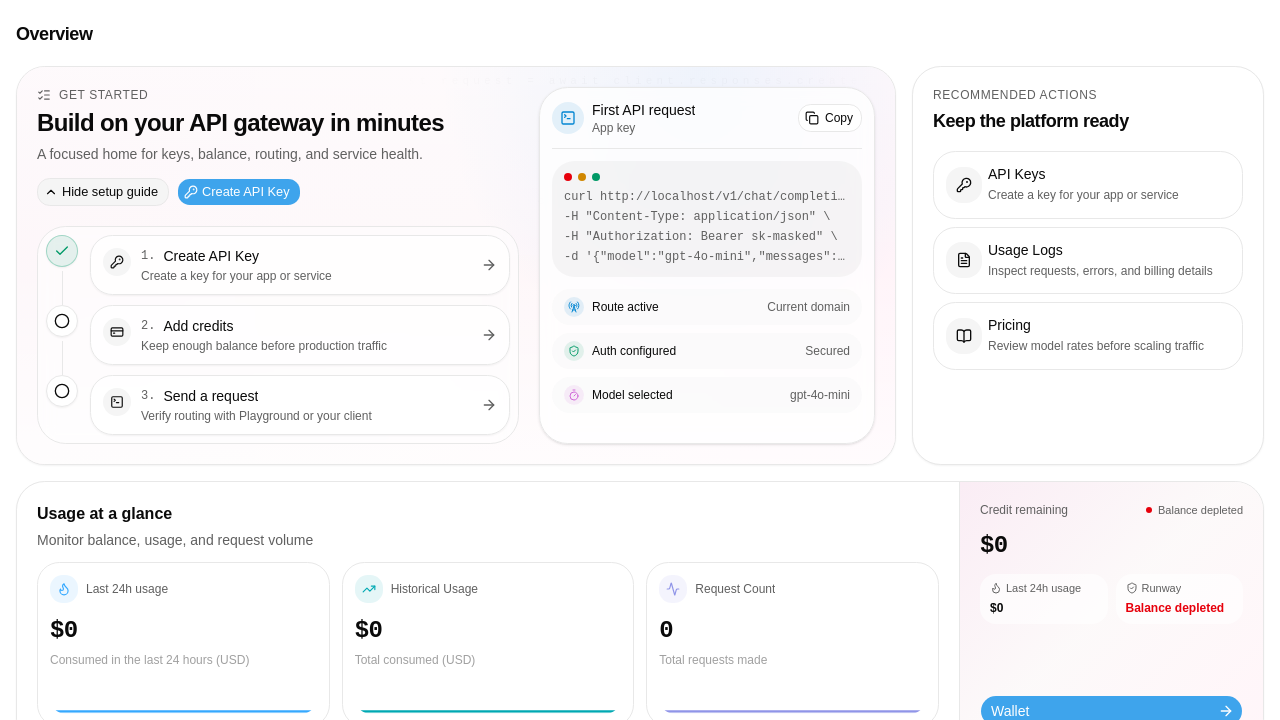
Test: overview setup guide › keeps the existing progress banner when an incomplete guide is manually collapsed
Step 1. Click the button "Hide setup guide" → (103, 192), box [37,178,169,206]
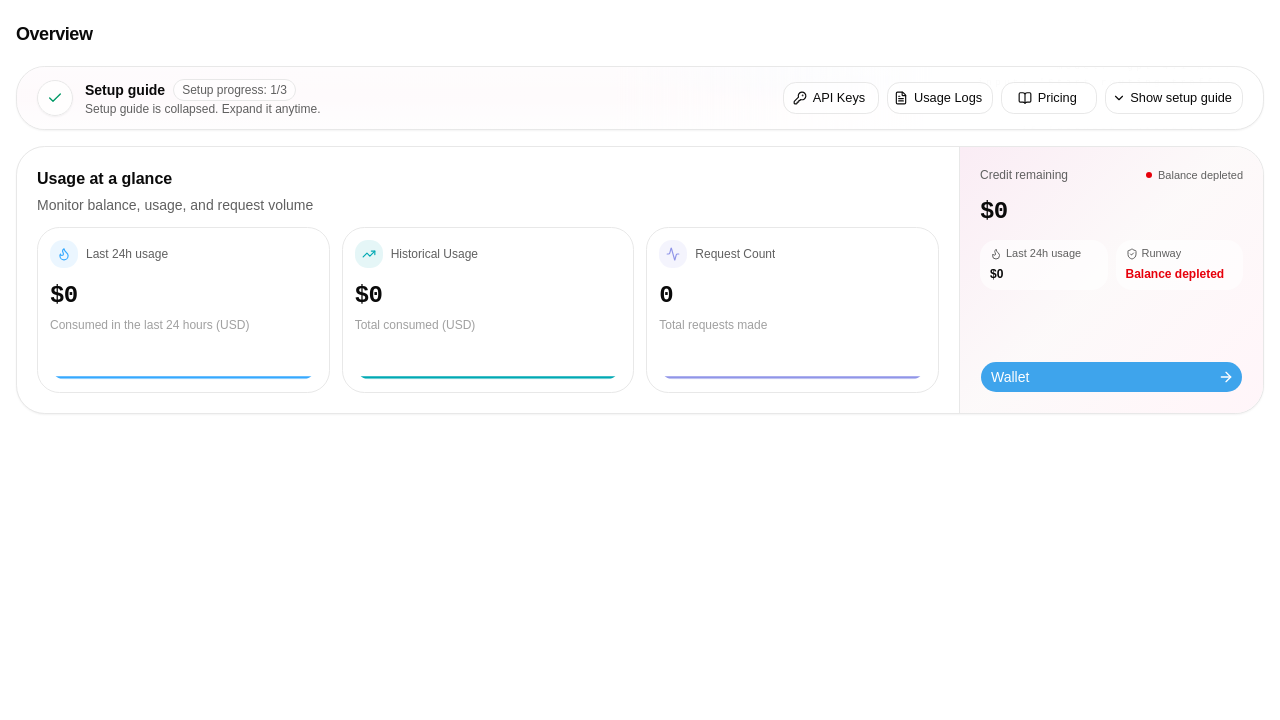
Expected: the button "API Keys" is shown, [783,82,879,114]
Expected: the text "Setup progress: 1/3" is shown, [173,79,296,101]
Expected: the text "Setup guide is collapsed. Expand it anytime." is shown, [85,101,320,117]
Step 2. Click the button "Show setup guide" → (1174, 98), box [1105,82,1243,114]
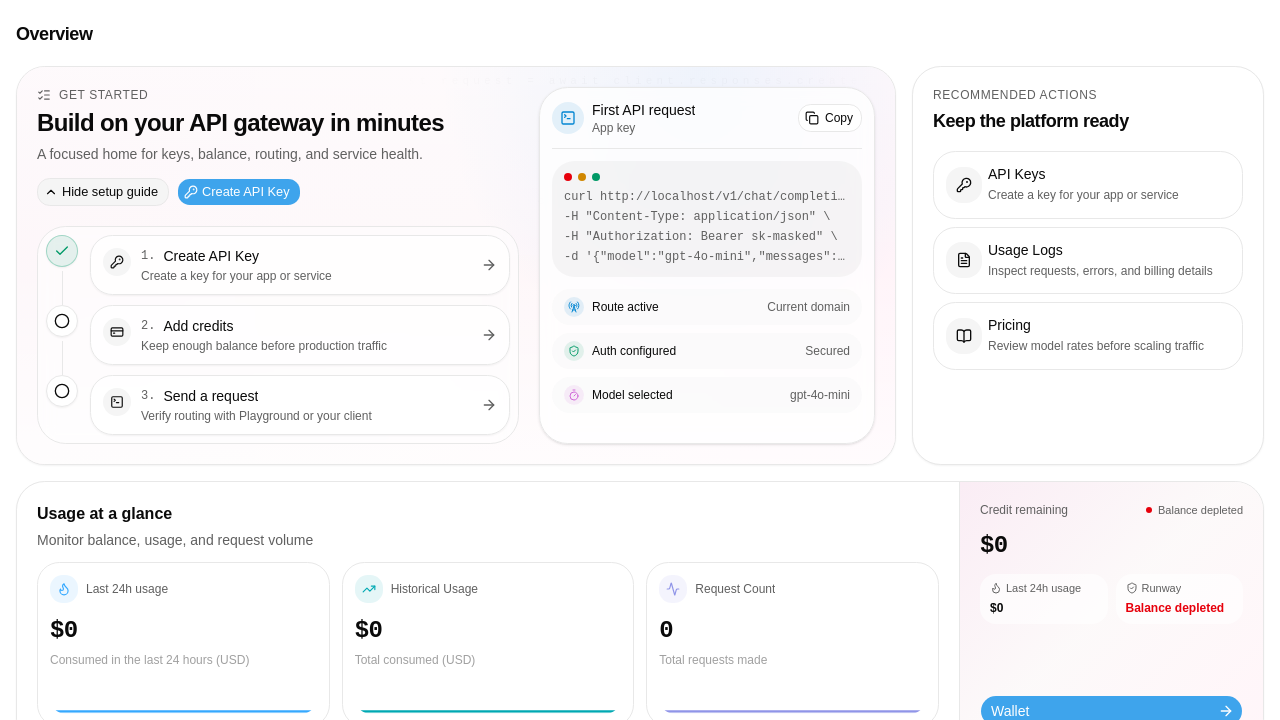
Expected: the button "Hide setup guide" is shown, [37,178,169,206]
